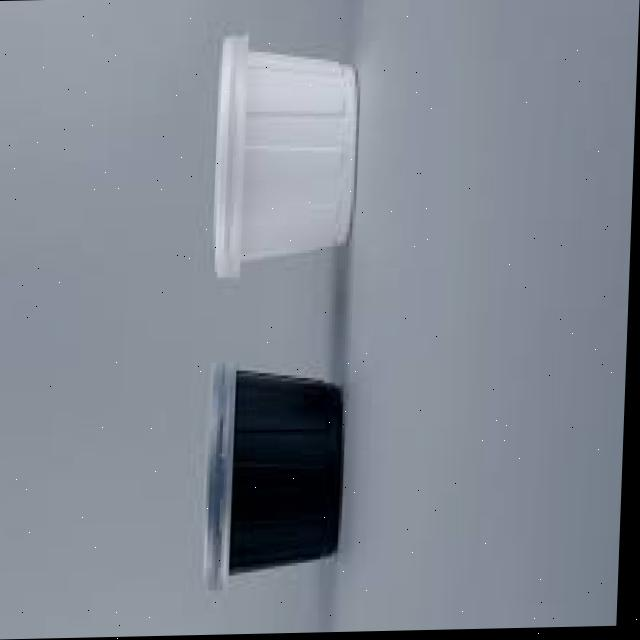disposable: (195, 327, 379, 598), (194, 16, 376, 286)
